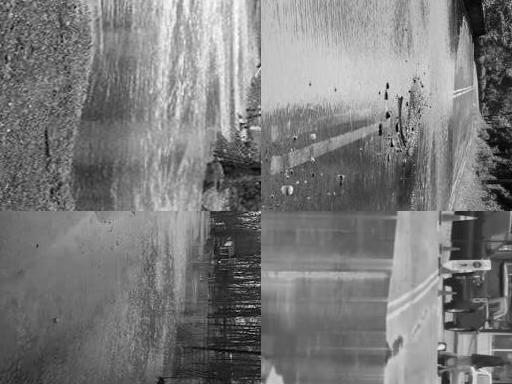road_waterlogging: (261, 0, 462, 211), (102, 0, 245, 211), (292, 211, 402, 384), (13, 310, 153, 384), (169, 211, 214, 384), (464, 47, 485, 132)
